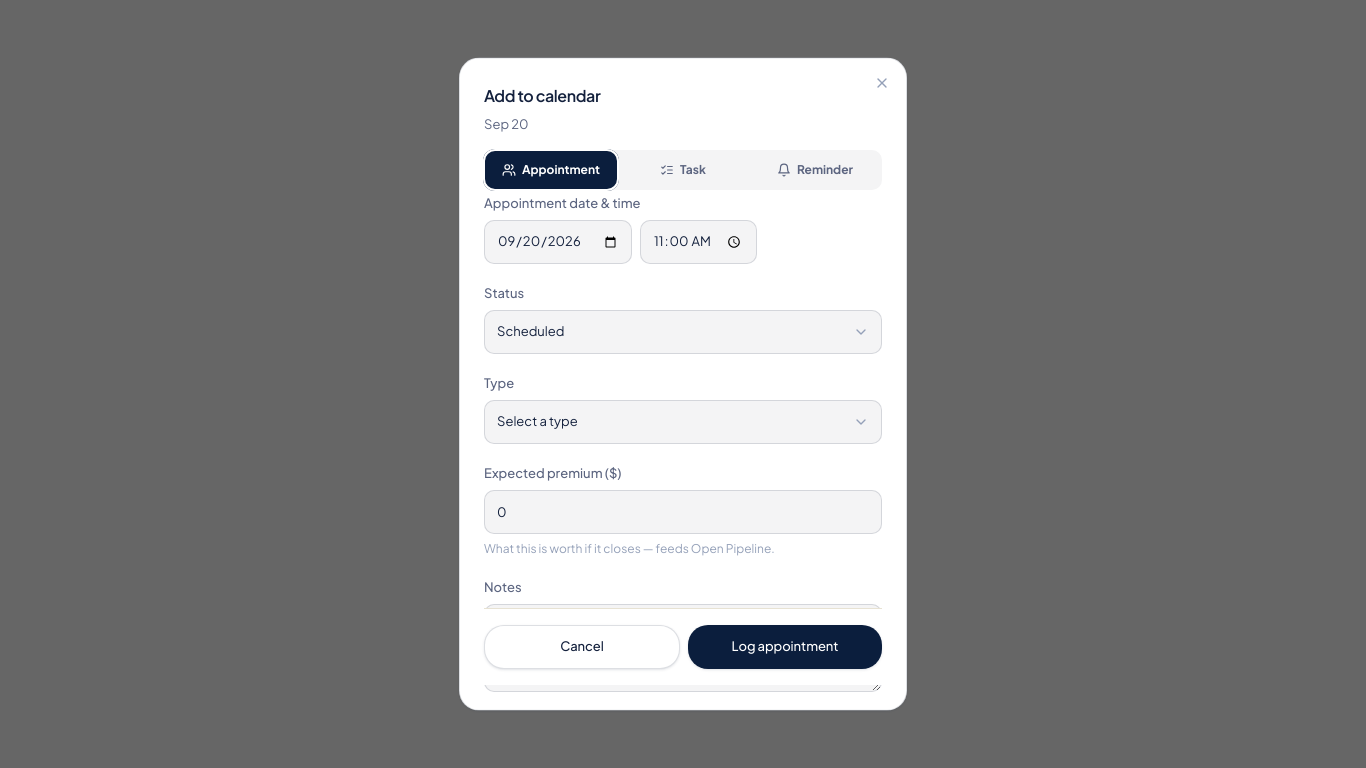
Test: CalendarAddDialog › moves a past slot up to today for a task, but not for an appointment
The image size is (1366, 768).
Expected: the date field labelled "Appointment date & time" holds "2026-09-20", [484, 220, 632, 264]
Step 1. Click the radio button labelled "Task" → {"x": 683, "y": 170}, box [619, 153, 747, 187]
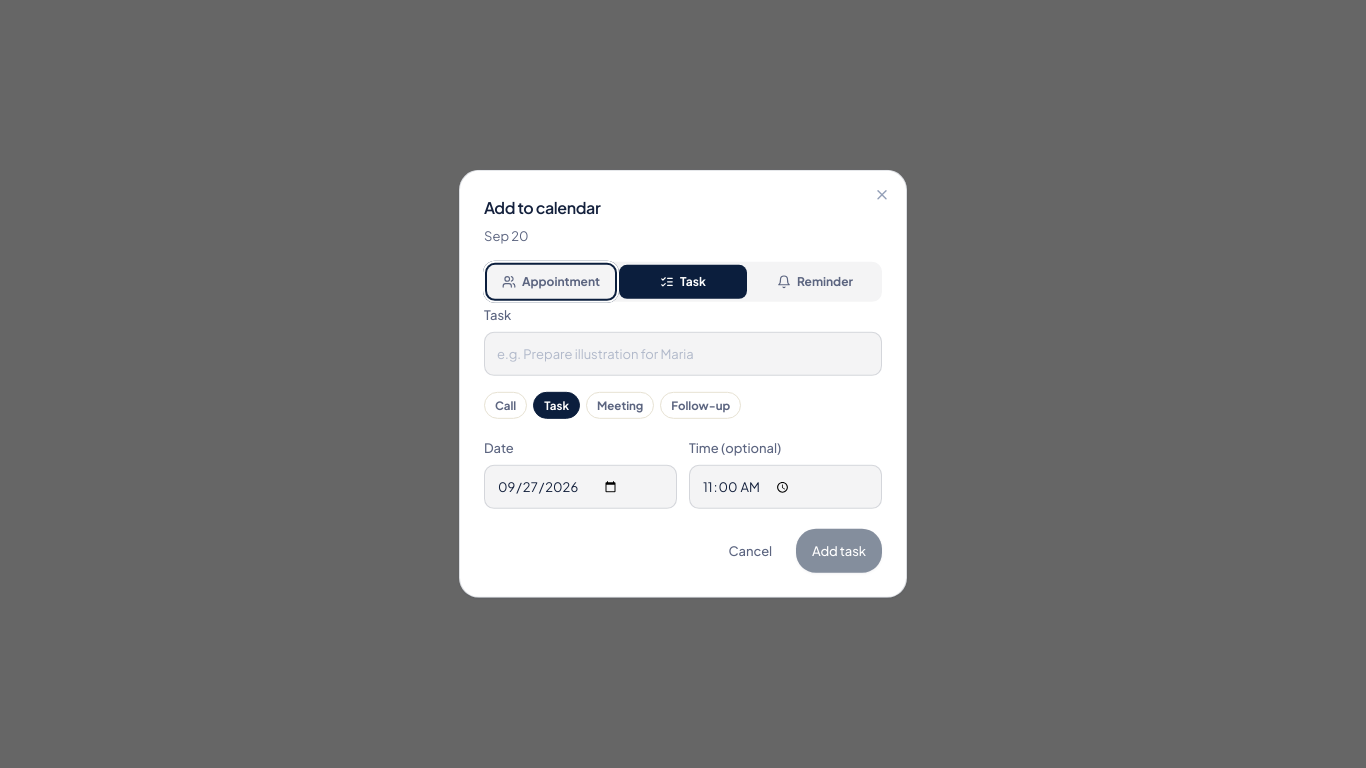
Result: the date field labelled "Date" holds "2026-09-27" at [484, 465, 677, 509]
